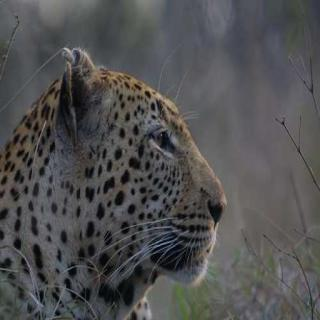Leopard: (0, 17, 244, 320)
